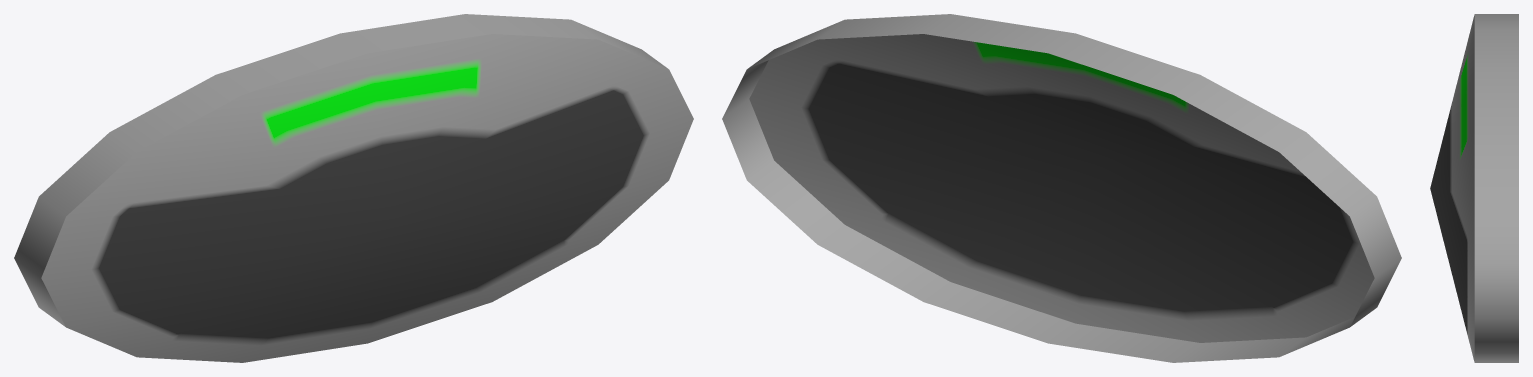
Rendered from Button.obj.
The picture shows the model from 3 angles, left to right: view 1: azimuth 30°, elevation 25°; view 2: azimuth 150°, elevation 25°; view 3: azimuth 270°, elevation 25°; orthographic projection. The views are drawn at different scales.
Parts seen in each view (by area): view 1: Circle; view 2: Circle; view 3: Circle.
Boxes of the visible parts, x1,y1,x2,y2 form: Circle: [14, 14, 693, 362]; Circle: [722, 14, 1401, 362]; Circle: [1430, 14, 1518, 362].
Bounding box in the file's own units: 0.1583 × 0.0673 × 0.023.
Materials: 1 (1 with a texture image).
